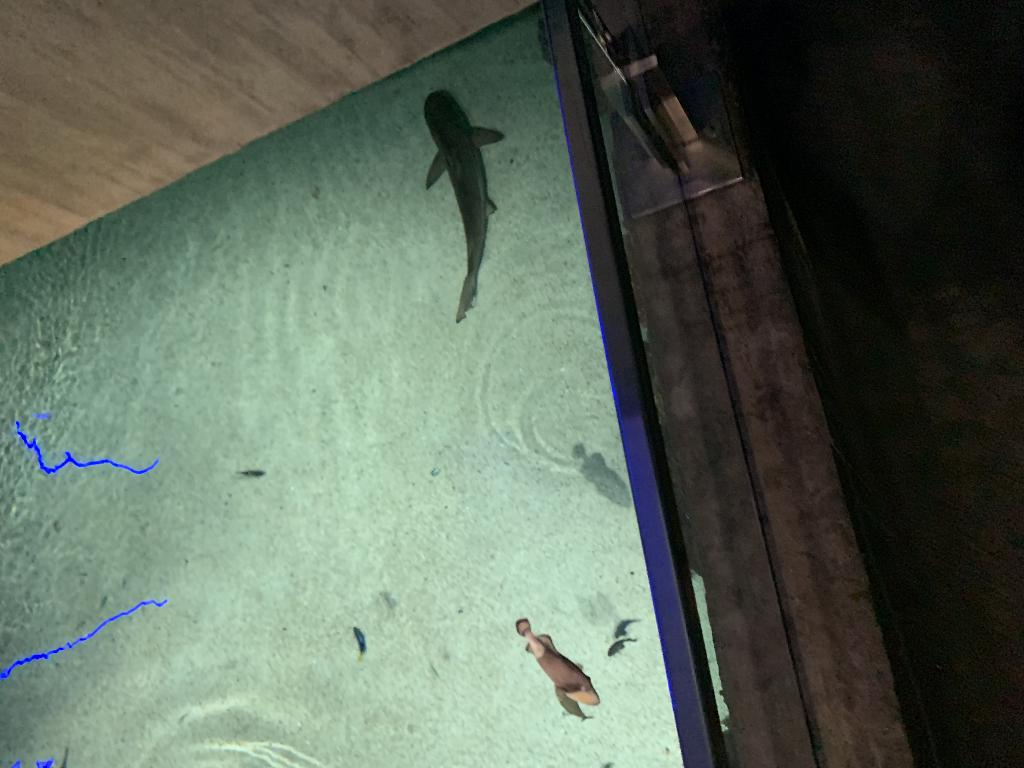fish: (506, 612, 604, 716), (565, 439, 633, 517), (554, 686, 590, 724), (348, 626, 372, 664), (230, 465, 266, 481)
shark: (421, 90, 505, 324)
